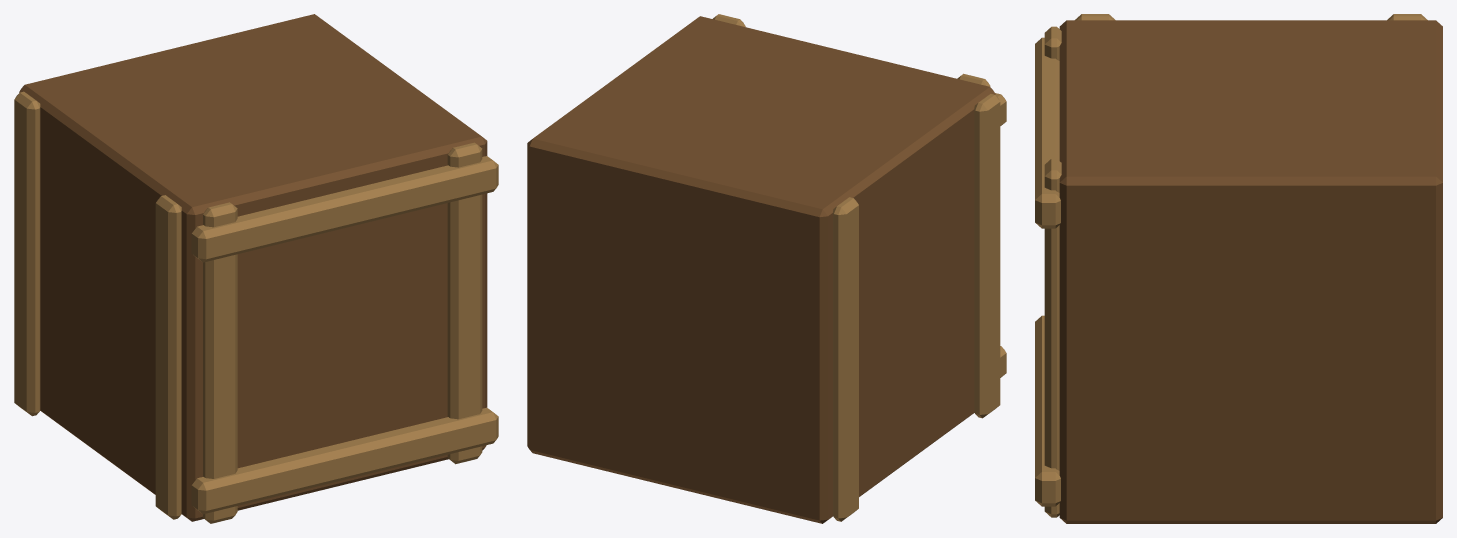
The model's file is adventure-crate.glb.
3 views of the same model, side by side, from view 1: azimuth 30°, elevation 25°; view 2: azimuth 150°, elevation 25°; view 3: azimuth 270°, elevation 25° (orthographic). The views are drawn at different scales.
Parts seen in each view (by area): view 1: Crate_body, Crate_cross_band.001, Crate_cross_band, Crate_front_band.001, Crate_front_band, Crate_side_band, Crate_side_band.001; view 2: Crate_body, Crate_side_band, Crate_side_band.001; view 3: Crate_body, Crate_front_band.001, Crate_cross_band.001, Crate_cross_band, Crate_front_band.
Part boxes in pixels (x1,y1,x2,y2): Crate_body: [19, 14, 487, 521]; Crate_cross_band.001: [191, 156, 498, 262]; Crate_cross_band: [191, 407, 498, 514]; Crate_front_band.001: [447, 142, 482, 464]; Crate_front_band: [203, 202, 237, 523]; Crate_side_band: [155, 195, 181, 519]; Crate_side_band.001: [14, 91, 40, 416]; Crate_body: [527, 16, 995, 523]; Crate_side_band: [974, 94, 1000, 418]; Crate_side_band.001: [833, 197, 858, 521]; Crate_body: [1059, 20, 1442, 523]; Crate_front_band.001: [1044, 158, 1061, 517]; Crate_cross_band.001: [1035, 37, 1060, 228]; Crate_cross_band: [1035, 315, 1060, 506]; Crate_front_band: [1044, 26, 1061, 60].
Bounding box in the file's own units: 1.46 × 1.4 × 1.49.
